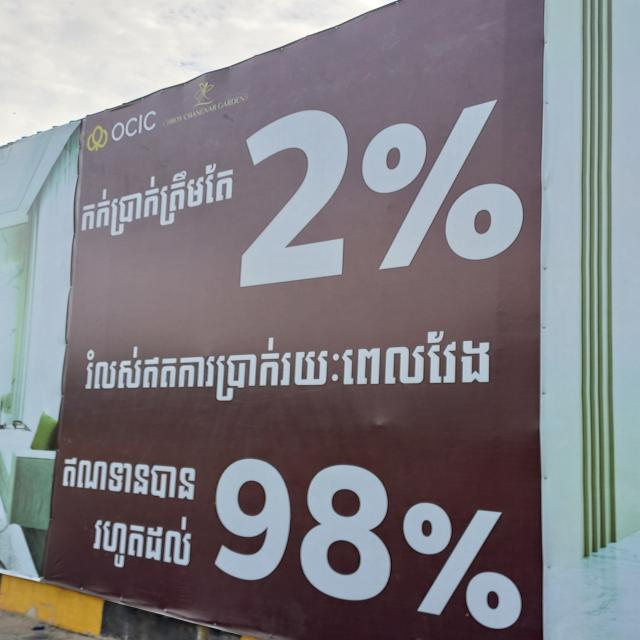631: (239, 94, 355, 296)
886: (203, 452, 400, 606)
Yolov11_80vkh: (80, 326, 504, 405), (80, 155, 235, 243), (78, 507, 204, 582), (57, 453, 204, 505)
